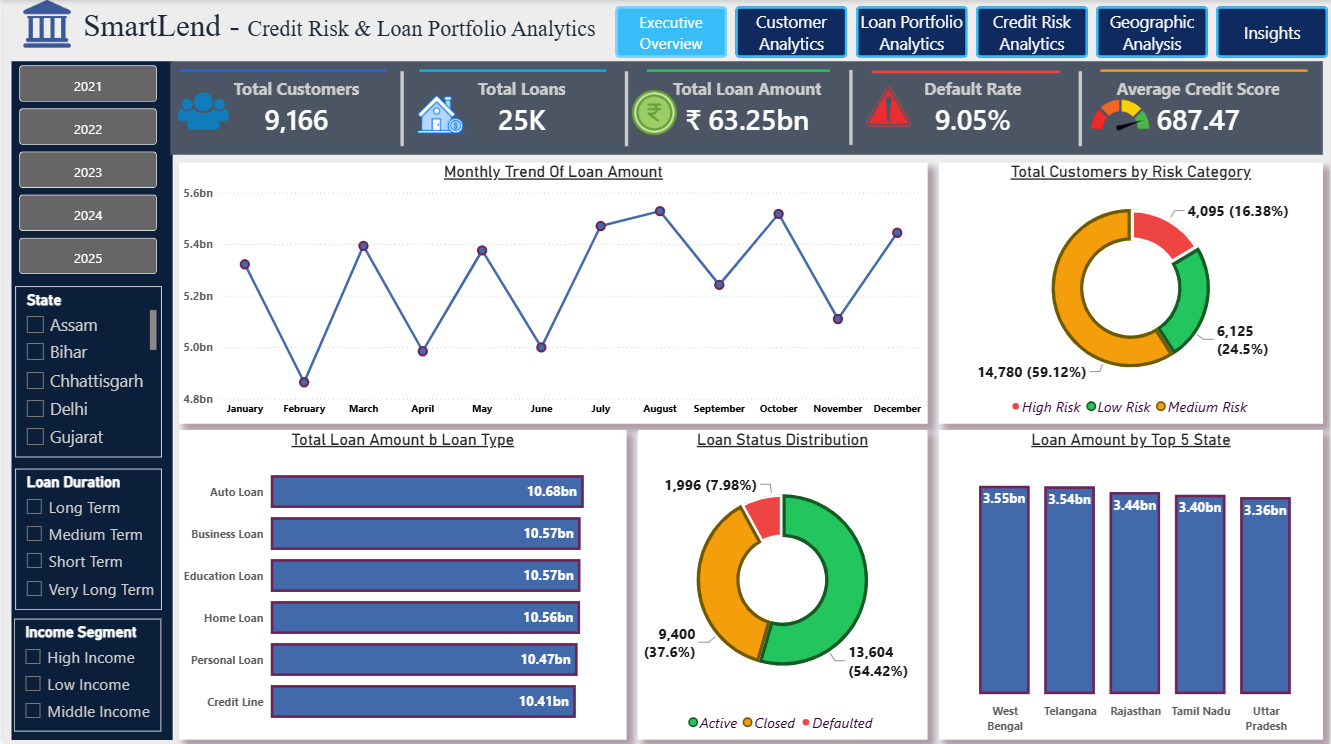

What the dashboard file says about the page in this screenshot:
{"tool":"powerbi","page":{"name":"Executive Overview","canvas":[1600,900],"ordinal":0},"visuals":[{"type":"shape","box":[9,73.9,194.5,818.9],"z":0},{"type":"shape","box":[200.6,73.9,1390.4,113.1],"z":1000},{"type":"cardVisual","fields":{"Data":["00_Measures.Totlal Customers","00_Measures.Total Loans","00_Measures.Total Loan Amount","00_Measures.Default Rate","00_Measures.Average Credit Score"]},"box":[203.1,81.2,1387.5,96.9],"z":2000},{"type":"shape","box":[455.4,86,49.8,90.5],"z":3000},{"type":"lineChart","title":"Monthly Trend Of Loan Amount","fields":{"Category":["SmartLend_Final_Analytics_Dataset.loan_issue_date.Variation.Date Hierarchy.Month"],"Y":["Sum(SmartLend_Final_Analytics_Dataset.loan_amount)"]},"box":[211.1,196,903.3,315.2],"z":4000},{"type":"donutChart","title":"Total Customers by Risk Category","fields":{"Category":["SmartLend_Final_Analytics_Dataset.risk_category"],"Y":["CountNonNull(SmartLend_Final_Analytics_Dataset.customer_id)"]},"box":[1128,196,463,315.2],"z":5000},{"type":"clusteredBarChart","title":"Total Loan Amount b Loan Type","fields":{"Category":["SmartLend_Final_Analytics_Dataset.loan_type"],"Y":["Sum(SmartLend_Final_Analytics_Dataset.loan_amount)"]},"box":[210.8,518.5,540,373.8],"z":6000},{"type":"donutChart","title":"Loan Status Distribution","fields":{"Category":["SmartLend_Final_Analytics_Dataset.loan_status"],"Y":["CountNonNull(SmartLend_Final_Analytics_Dataset.loan_id)"]},"box":[764.6,518.5,349.2,373.8],"z":7000},{"type":"advancedSlicerVisual","fields":{"Values":["SmartLend_Final_Analytics_Dataset.loan_issue_date.Variation.Date Hierarchy.Year"]},"box":[13.6,73.9,176.4,263.9],"z":8000},{"type":"columnChart","title":"Loan Amount by Top 5 State","fields":{"Category":["SmartLend_Final_Analytics_Dataset.state"],"Y":["Sum(SmartLend_Final_Analytics_Dataset.loan_amount)"]},"box":[1127.7,518.5,463.1,373.8],"z":9000},{"type":"slicer","fields":{"Values":["SmartLend_Final_Analytics_Dataset.state"]},"box":[13.6,345.3,176.4,206.6],"z":10000},{"type":"slicer","fields":{"Values":["SmartLend_Final_Analytics_Dataset.income_segment"]},"box":[12.1,746.5,177.9,135.7],"z":11000},{"type":"slicer","fields":{"Values":["SmartLend_Final_Analytics_Dataset.loan_duration_bucket"]},"box":[13.6,565.5,176.4,170.4],"z":12000},{"type":"shape","box":[1274.3,86,48.3,90.5],"z":13000},{"type":"shape","box":[996.8,84.5,49.8,90.5],"z":14000},{"type":"shape","box":[726.9,86,48.3,90.5],"z":15000},{"type":"image","box":[13.6,0,76.9,57.3],"z":16000},{"type":"image","box":[481.1,105.6,89,64.8],"z":17000},{"type":"image","box":[200.6,98,79.9,67.9],"z":18000},{"type":"image","box":[751,108.6,67.9,54.3],"z":19000},{"type":"image","box":[1019.4,95,95,67.9],"z":20000},{"type":"image","box":[1312,98,69.4,81.4],"z":21000},{"type":"shape","box":[211.1,73.9,250.3,22.6],"z":22000},{"type":"shape","box":[500.7,73.9,226.2,22.6],"z":23000},{"type":"shape","box":[1046.6,75.4,227.7,22.6],"z":24000},{"type":"shape","box":[775.1,73.9,221.7,22.6],"z":25000},{"type":"shape","box":[1322.6,73.9,250.3,22.6],"z":26000},{"type":"textbox","box":[90.5,0,636.4,73.9],"z":27000},{"type":"pageNavigator","box":[737.4,7.5,862.6,62],"z":28000}]}

Visuals, with their boxes in screenshot pixels (x1, y1, x2, y2), scaled from the page's 1600x900 canvas onto the 1331x744 screenshot:
shape: locate(7, 61, 169, 738)
shape: locate(167, 61, 1324, 155)
cardVisual - 00_Measures.Totlal Customers x 00_Measures.Total Loans: locate(169, 67, 1323, 147)
shape: locate(379, 71, 420, 146)
"Monthly Trend Of Loan Amount" lineChart: locate(176, 162, 927, 423)
"Total Customers by Risk Category" donutChart: locate(938, 162, 1324, 423)
"Total Loan Amount b Loan Type" clusteredBarChart: locate(175, 429, 625, 738)
"Loan Status Distribution" donutChart: locate(636, 429, 927, 738)
advancedSlicerVisual - SmartLend_Final_Analytics_Dataset.loan_issue_date.Variation.Date Hierarchy.Year: locate(11, 61, 158, 279)
"Loan Amount by Top 5 State" columnChart: locate(938, 429, 1323, 738)
slicer - SmartLend_Final_Analytics_Dataset.state: locate(11, 285, 158, 456)
slicer - SmartLend_Final_Analytics_Dataset.income_segment: locate(10, 617, 158, 729)
slicer - SmartLend_Final_Analytics_Dataset.loan_duration_bucket: locate(11, 467, 158, 608)
shape: locate(1060, 71, 1100, 146)
shape: locate(829, 70, 871, 145)
shape: locate(605, 71, 645, 146)
image: locate(11, 0, 75, 47)
image: locate(400, 87, 474, 141)
image: locate(167, 81, 233, 137)
image: locate(625, 90, 681, 135)
image: locate(848, 79, 927, 135)
image: locate(1091, 81, 1149, 148)
shape: locate(176, 61, 384, 80)
shape: locate(417, 61, 605, 80)
shape: locate(871, 62, 1060, 81)
shape: locate(645, 61, 829, 80)
shape: locate(1100, 61, 1308, 80)
textbox: locate(75, 0, 605, 61)
pageNavigator: locate(613, 6, 1330, 57)
